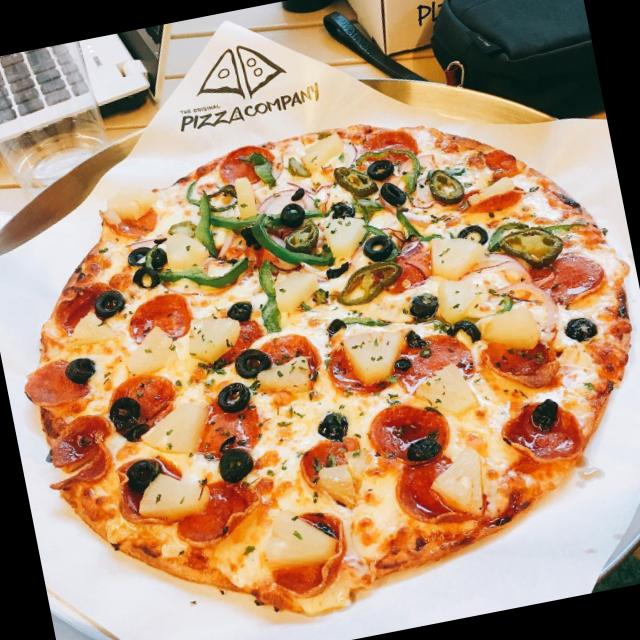black_olives: (213, 442, 261, 488), (105, 394, 149, 436), (90, 282, 130, 328), (61, 347, 106, 386), (232, 339, 272, 381), (312, 406, 354, 446), (560, 306, 602, 345), (400, 427, 441, 464), (406, 286, 442, 324), (214, 379, 252, 414), (124, 456, 160, 490), (376, 175, 408, 212), (360, 231, 396, 263), (532, 395, 564, 430), (444, 315, 478, 346), (328, 196, 364, 225), (128, 262, 160, 292), (320, 251, 350, 281), (322, 312, 353, 339), (366, 155, 396, 182), (125, 243, 154, 270), (222, 294, 252, 320), (278, 201, 306, 226), (399, 326, 425, 348), (146, 244, 170, 266)
pepperoni: (170, 475, 278, 559), (274, 504, 360, 606), (493, 389, 590, 472), (364, 392, 457, 478), (254, 329, 333, 409), (390, 322, 473, 397), (42, 412, 117, 494), (480, 325, 564, 398), (532, 243, 608, 316), (15, 354, 96, 417), (126, 286, 198, 354), (110, 368, 180, 436), (192, 396, 262, 463), (216, 138, 288, 194), (50, 276, 114, 334), (296, 433, 362, 483), (360, 121, 423, 167), (381, 254, 432, 298), (217, 316, 260, 360), (108, 206, 158, 243)
peppers: (248, 197, 338, 279), (154, 250, 261, 306), (185, 185, 238, 267), (206, 200, 280, 240), (253, 259, 286, 334), (386, 204, 436, 247), (246, 144, 288, 193), (392, 143, 424, 200)
pizza: (23, 125, 634, 623)
